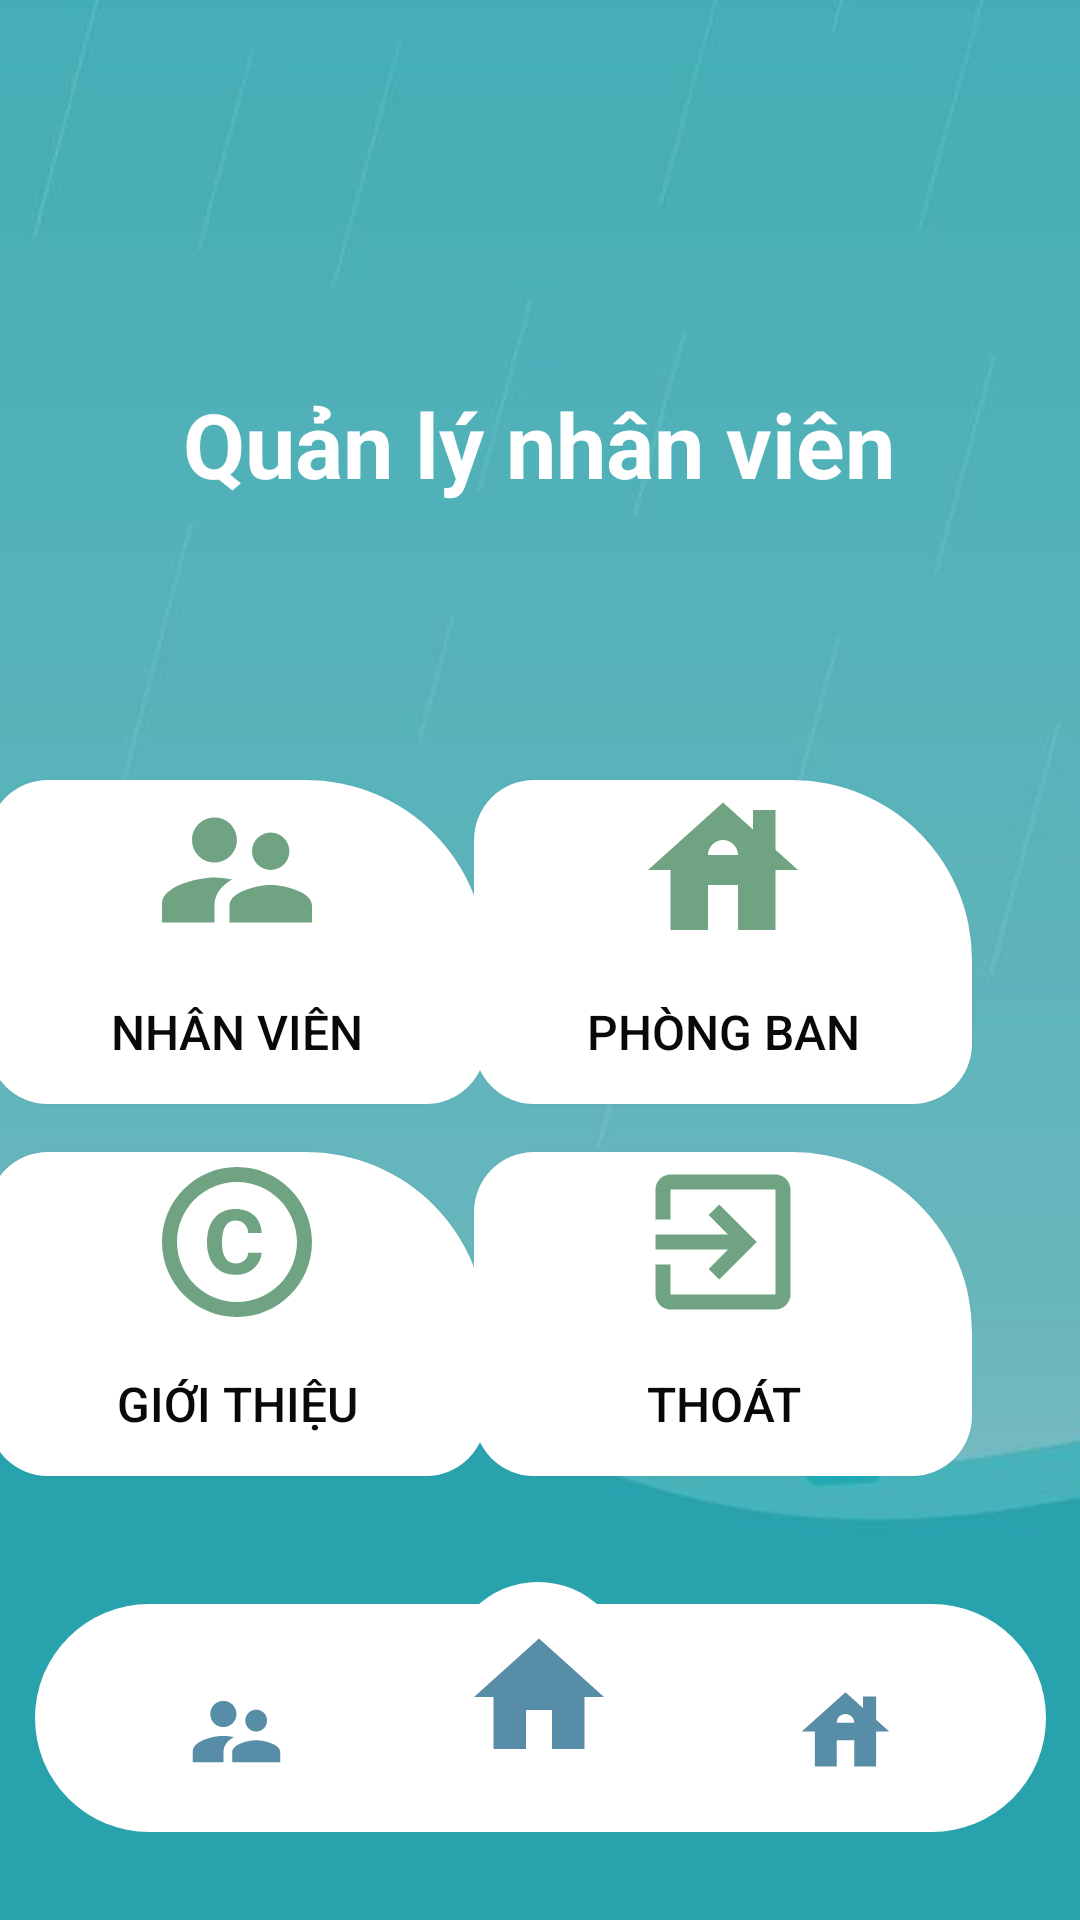

Icon click points for this 1080w x 1920h phone screenshot, format (x=x, y=y):
home: (x=539, y=1694)
